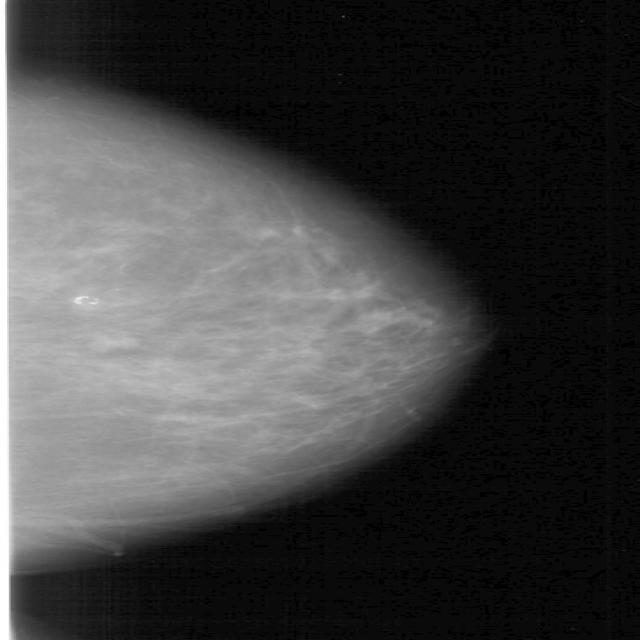tumour: (92, 329, 141, 351)
